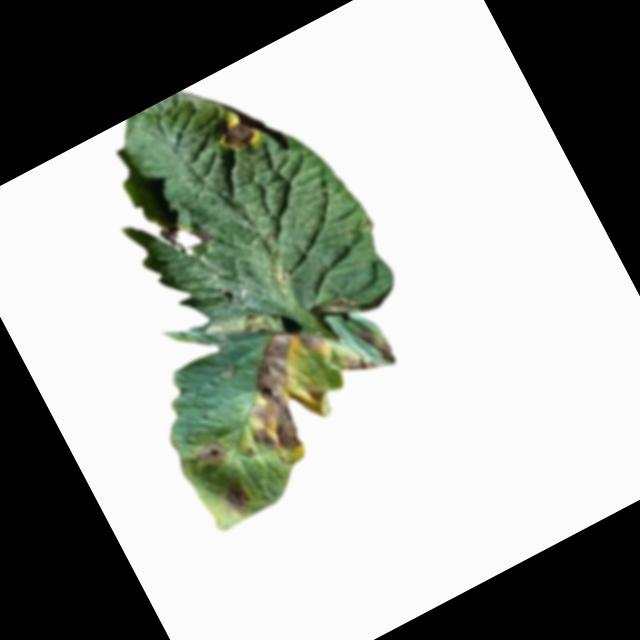Early_blight: (211, 287, 417, 475), (158, 211, 214, 264), (215, 116, 261, 160), (215, 473, 258, 520), (192, 436, 233, 476)
